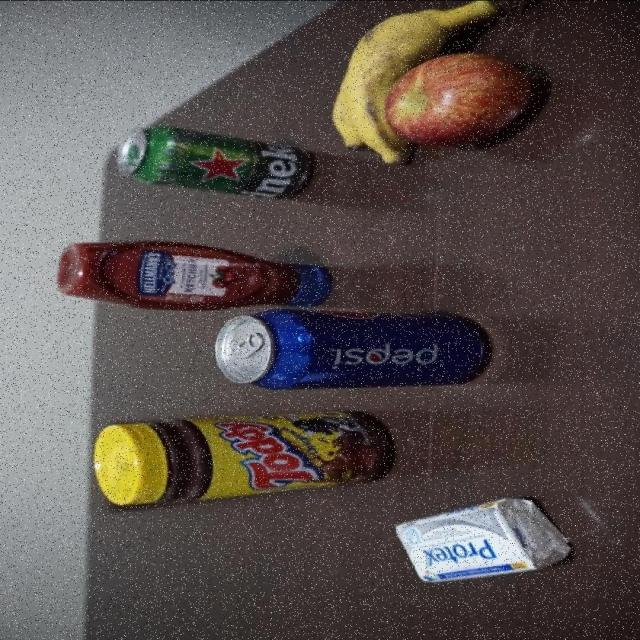Apple: (396, 51, 534, 148)
Banana: (327, 14, 394, 163)
BeerCan: (115, 126, 314, 200)
ChocolatePowder: (92, 409, 395, 511)
Ketchup: (58, 240, 332, 308)
Soap: (392, 493, 576, 581)
SodaCan: (212, 306, 489, 391)
